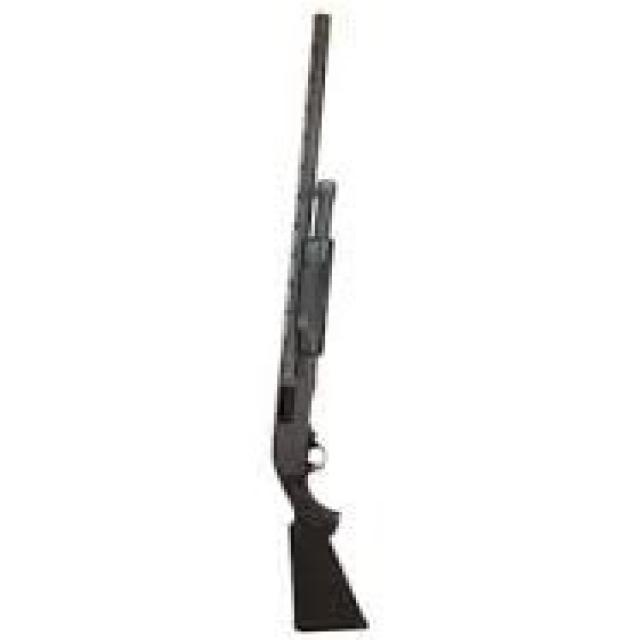rifle: (267, 11, 393, 638)
